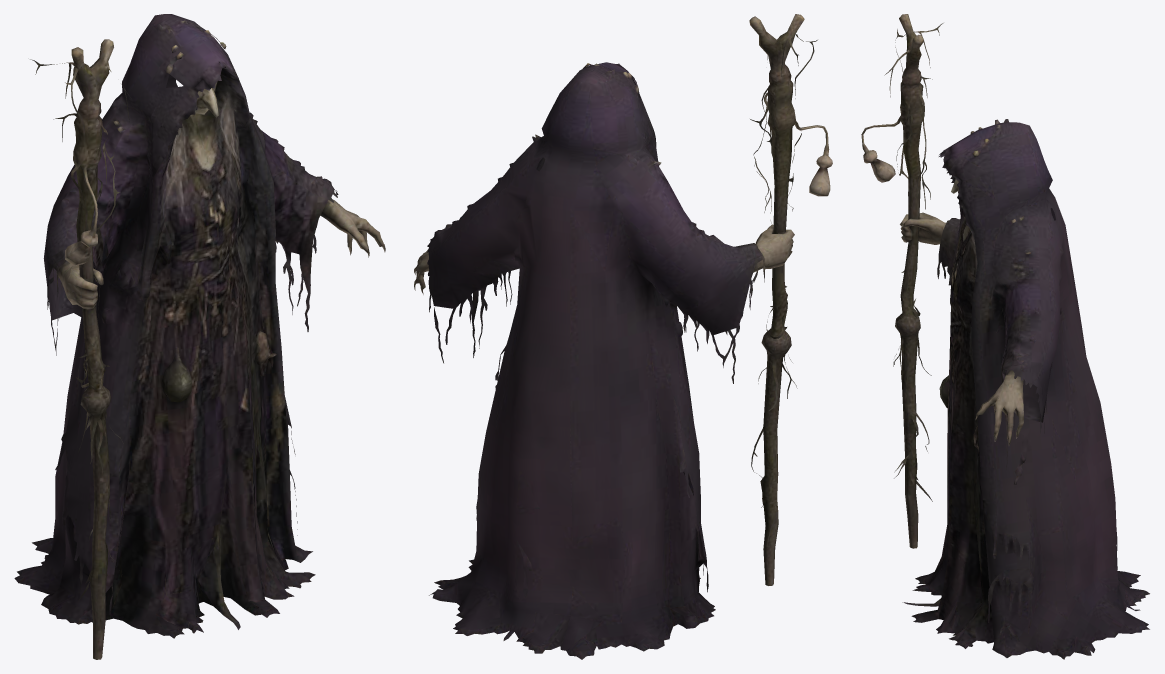
File: reaper.glb
3 views of the same model, side by side, from view 1: azimuth 30°, elevation 25°; view 2: azimuth 150°, elevation 25°; view 3: azimuth 270°, elevation 25° (orthographic). The views are drawn at different scales.
Parts seen in each view (by area): view 1: tripo_node_377ebeae-2cc0-40ed-b277-d30f4baaa17b; view 2: tripo_node_377ebeae-2cc0-40ed-b277-d30f4baaa17b; view 3: tripo_node_377ebeae-2cc0-40ed-b277-d30f4baaa17b.
Part boxes in pixels (box(x1,y1,x2,y2)): tripo_node_377ebeae-2cc0-40ed-b277-d30f4baaa17b: box(14, 14, 385, 659); tripo_node_377ebeae-2cc0-40ed-b277-d30f4baaa17b: box(414, 14, 832, 659); tripo_node_377ebeae-2cc0-40ed-b277-d30f4baaa17b: box(861, 14, 1149, 659).
Size of the model in its own units: 0.6538 by 0.9995 by 0.5015.
1 material, 1 textured.
